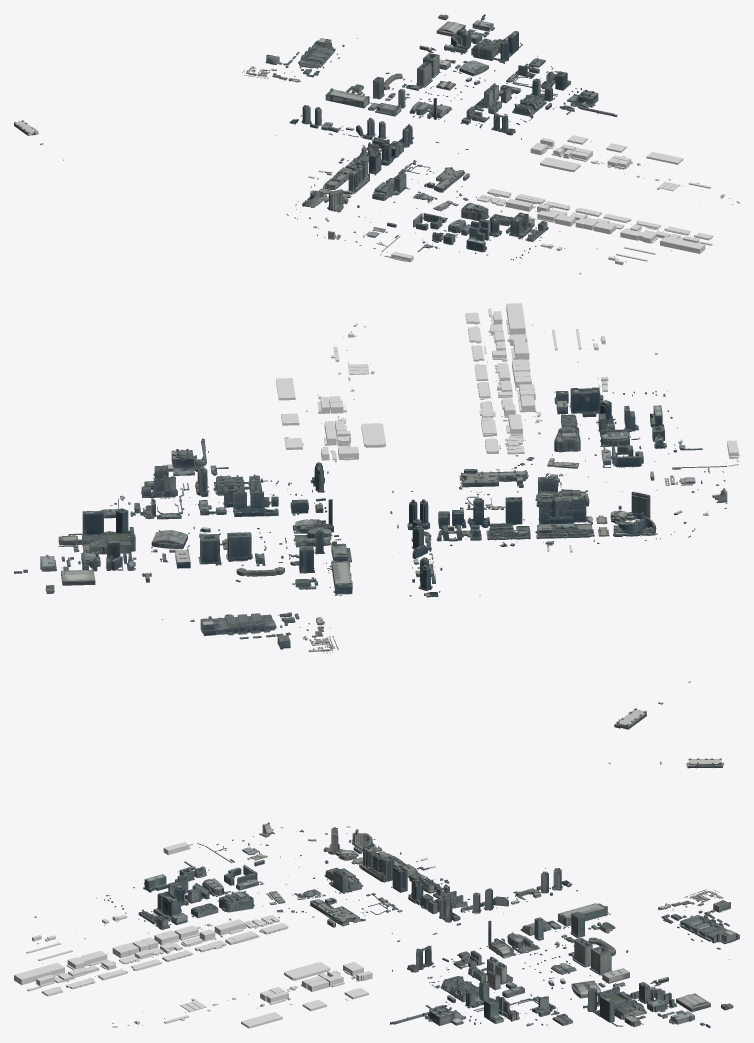
File: tokyo-city-atlas-desktop.glb
3 renders of one model, top to bottom at view 1: azimuth 30°, elevation 25°; view 2: azimuth 150°, elevation 25°; view 3: azimuth 270°, elevation 25°, orthographic. The views are drawn at different scales.
Visible parts, largest first — view 1: Odaiba; view 2: Odaiba; view 3: Odaiba.
Part boxes in pixels (box(x1,y1,x2,y2)): Odaiba: box(14, 14, 739, 274); Odaiba: box(14, 303, 739, 729); Odaiba: box(14, 758, 739, 1028).
Size of the model in its own units: 3233 by 148 by 3727.
1 material, 1 textured.
